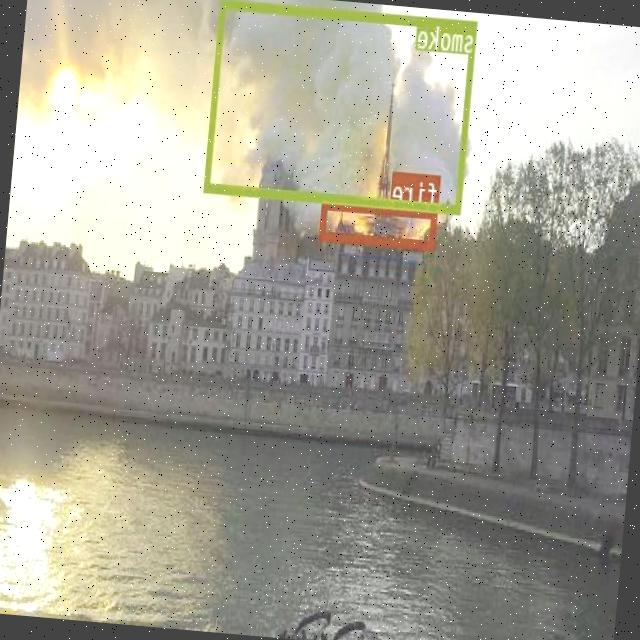fire: (320, 198, 438, 249)
smoke: (205, 0, 478, 213)
